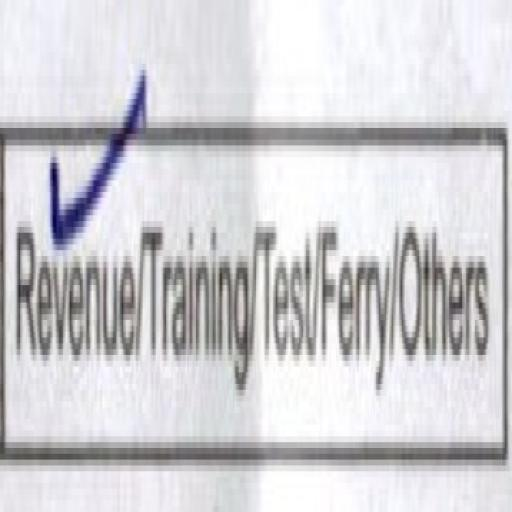check: (2, 0, 141, 503)
